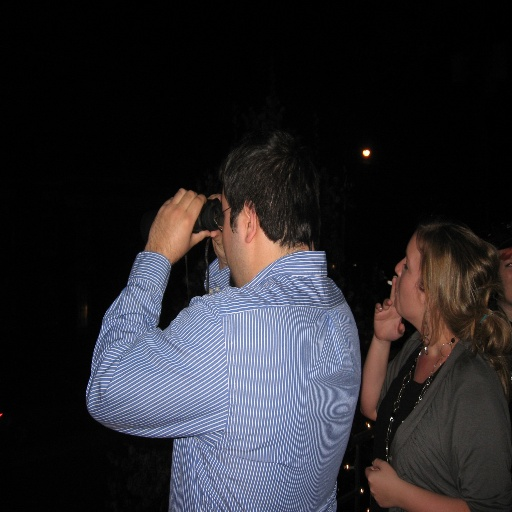hand: (146, 185, 209, 265), (372, 275, 407, 343), (364, 456, 399, 508), (206, 194, 227, 263)
